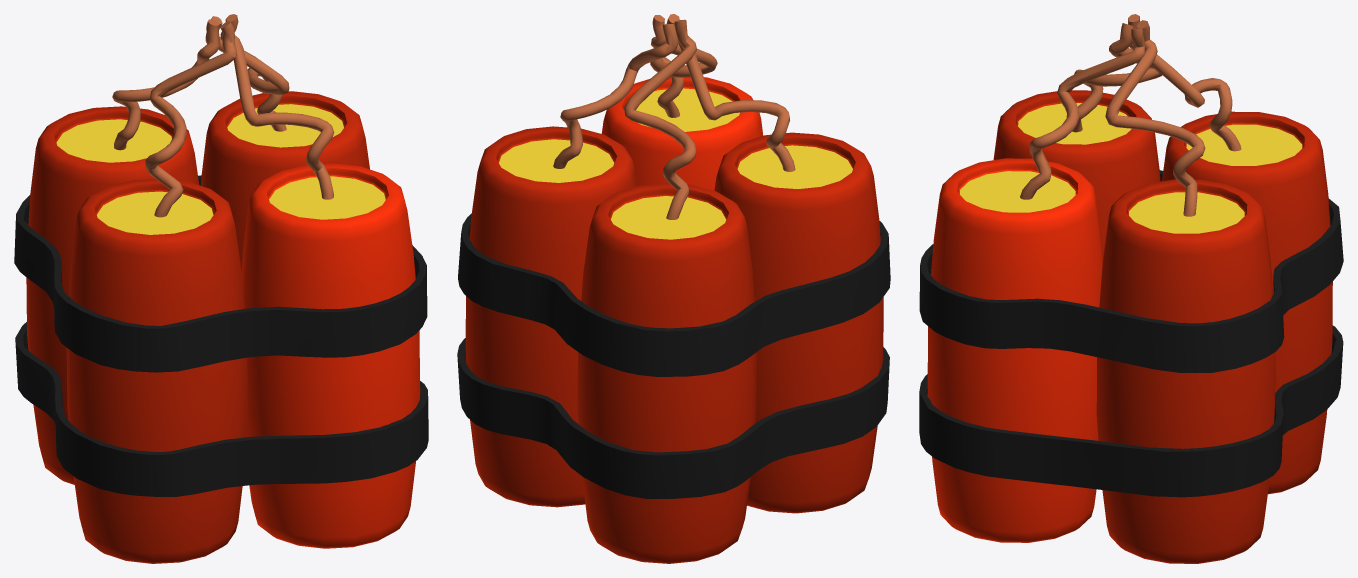
The model's file is tnt.fbx.
3 views of the same model, side by side, from view 1: azimuth 30°, elevation 25°; view 2: azimuth 150°, elevation 25°; view 3: azimuth 270°, elevation 25° (orthographic).
Visible parts, largest first — view 1: BezierCurve.001; view 2: BezierCurve.001; view 3: BezierCurve.001.
Part boxes in pixels (x1,y1,x2,y2): BezierCurve.001: (14, 14, 428, 563); BezierCurve.001: (457, 14, 890, 563); BezierCurve.001: (919, 14, 1343, 563).
Size of the model in its own units: 79.07 by 100 by 81.79.
